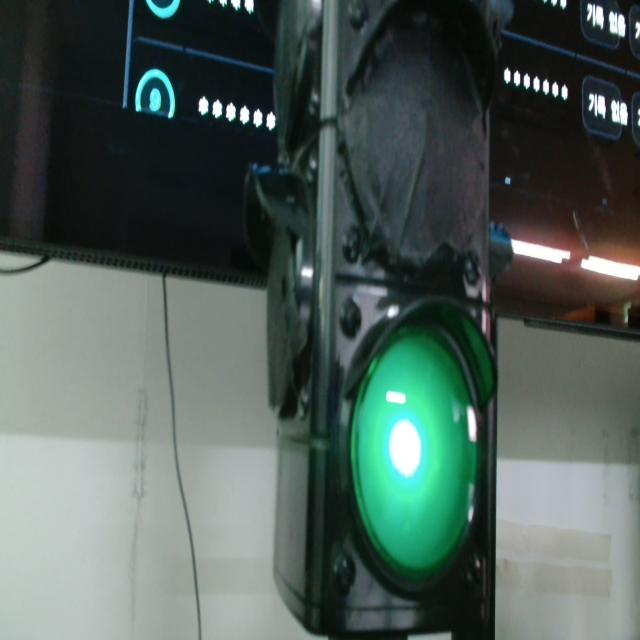green_light: (351, 328, 477, 579), (389, 420, 421, 477)
